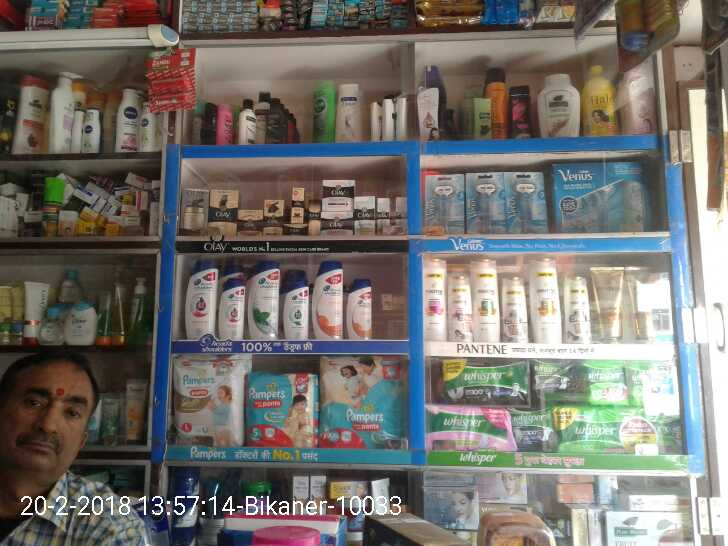venus: (557, 162, 645, 234), (423, 175, 469, 233), (509, 174, 549, 233), (469, 174, 509, 233)
